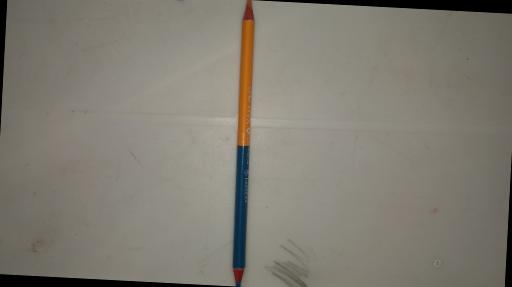Pencil: (230, 0, 258, 286)
